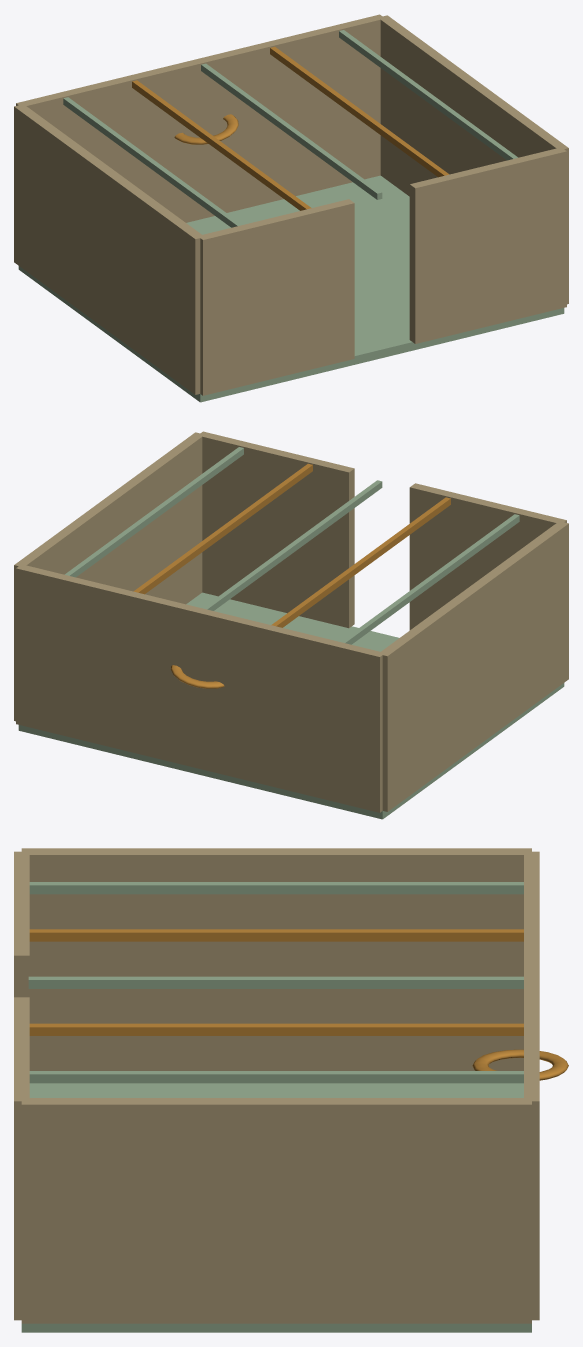
The model's file is puzzle_clock.glb.
3 views of the same model, one above another, from view 1: azimuth 30°, elevation 25°; view 2: azimuth 150°, elevation 25°; view 3: azimuth 270°, elevation 25° (orthographic). The views are drawn at different scales.
Visible parts, largest first — view 1: wall_north, wall_west, wall_south_right, wall_south_left, wall_east, floor, ceiling_beam_0, ceiling_beam_-2, ceiling_beam_-1, ceiling_beam_1, ceiling_beam_2, purpose_clock_core; view 2: wall_north, wall_west, wall_south_right, wall_east, wall_south_left, floor, ceiling_beam_0, ceiling_beam_-2, ceiling_beam_-1, ceiling_beam_1, ceiling_beam_2; view 3: wall_east, wall_west, floor, ceiling_beam_0, ceiling_beam_-1, ceiling_beam_-2, ceiling_beam_1, ceiling_beam_2, wall_north, wall_south_right, wall_south_left, purpose_clock_core.
Boxes of the visible parts, x1=… form: wall_north: x1=16, y1=14, x2=384, y2=222; wall_west: x1=14, y1=105, x2=204, y2=394; wall_south_right: x1=409, y1=147, x2=566, y2=343; wall_south_left: x1=198, y1=199, x2=354, y2=395; wall_east: x1=379, y1=15, x2=568, y2=304; floor: x1=18, y1=175, x2=564, y2=402; ceiling_beam_0: x1=201, y1=63, x2=382, y2=199; ceiling_beam_-2: x1=63, y1=97, x2=242, y2=227; ceiling_beam_-1: x1=132, y1=80, x2=311, y2=210; ceiling_beam_1: x1=270, y1=46, x2=449, y2=177; ceiling_beam_2: x1=339, y1=30, x2=517, y2=160; purpose_clock_core: x1=174, y1=114, x2=238, y2=144; wall_north: x1=16, y1=564, x2=384, y2=812; wall_west: x1=378, y1=522, x2=568, y2=811; wall_south_right: x1=199, y1=431, x2=354, y2=628; wall_east: x1=14, y1=432, x2=204, y2=721; wall_south_left: x1=409, y1=483, x2=566, y2=630; floor: x1=18, y1=592, x2=564, y2=819; ceiling_beam_0: x1=203, y1=480, x2=382, y2=610; ceiling_beam_-2: x1=340, y1=514, x2=519, y2=644; ceiling_beam_-1: x1=271, y1=497, x2=450, y2=627; ceiling_beam_1: x1=133, y1=463, x2=312, y2=594; ceiling_beam_2: x1=65, y1=447, x2=243, y2=577; wall_east: x1=21, y1=1098, x2=531, y2=1323; wall_west: x1=21, y1=848, x2=531, y2=1070; floor: x1=21, y1=1083, x2=531, y2=1332; ceiling_beam_0: x1=28, y1=976, x2=523, y2=988; ceiling_beam_-1: x1=29, y1=929, x2=523, y2=941; ceiling_beam_-2: x1=29, y1=882, x2=523, y2=894; ceiling_beam_1: x1=29, y1=1023, x2=523, y2=1035; ceiling_beam_2: x1=29, y1=1071, x2=523, y2=1083; wall_north: x1=524, y1=851, x2=539, y2=1320; wall_south_right: x1=14, y1=997, x2=29, y2=1320; wall_south_left: x1=14, y1=851, x2=29, y2=997; purpose_clock_core: x1=472, y1=1049, x2=568, y2=1080.
Size of what is drawn, in the model's own units: 13.55 by 5.7 by 12.41.
